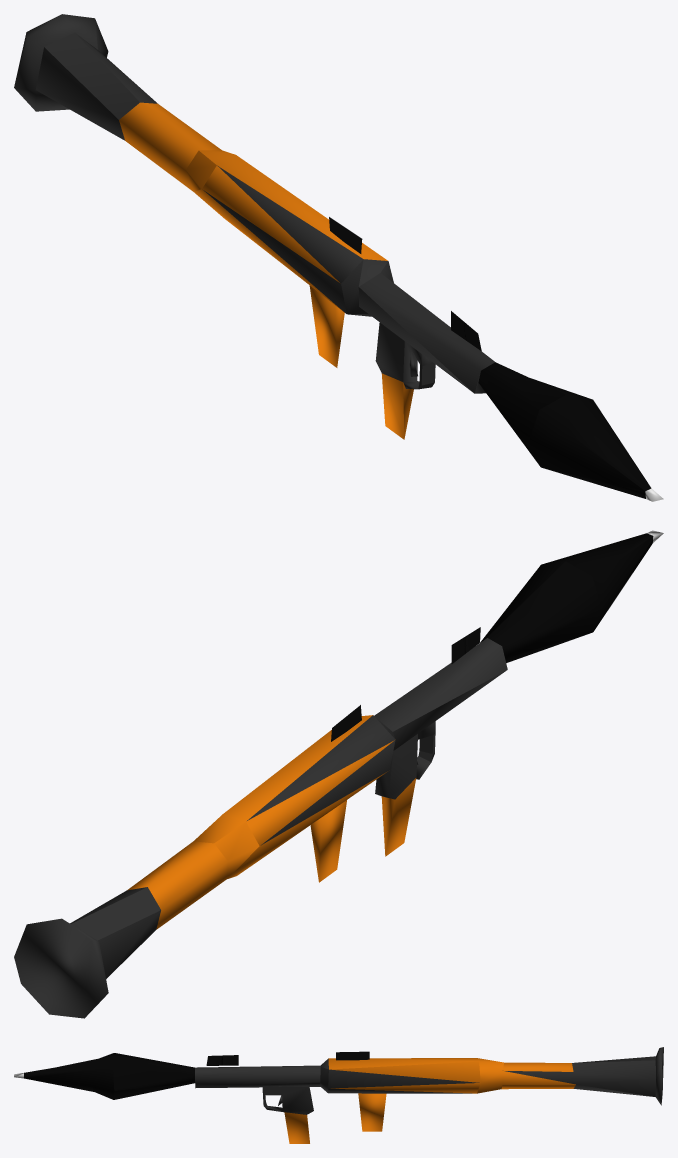
File: Bazuka.fbx
The picture shows the model from 3 angles, top to bottom: view 1: azimuth 30°, elevation 25°; view 2: azimuth 150°, elevation 25°; view 3: azimuth 270°, elevation 25°; orthographic projection. The views are drawn at different scales.
Visible parts, largest first — view 1: Weapon_08; view 2: Weapon_08; view 3: Weapon_08.
Part boxes in pixels (x1,y1,x2,y2): Weapon_08: [14, 14, 663, 501]; Weapon_08: [14, 530, 663, 1018]; Weapon_08: [14, 1047, 663, 1143].
Size of the model in its own units: 8.6 by 15.19 by 94.33.
